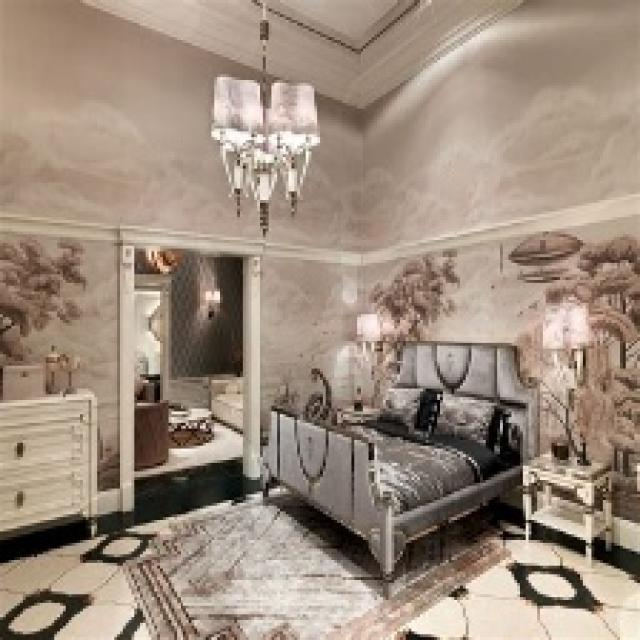Bed: (260, 337, 540, 583)
